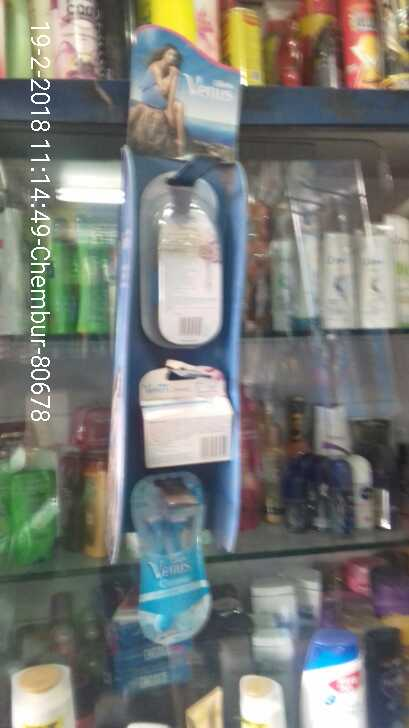venus: (133, 478, 216, 643)
